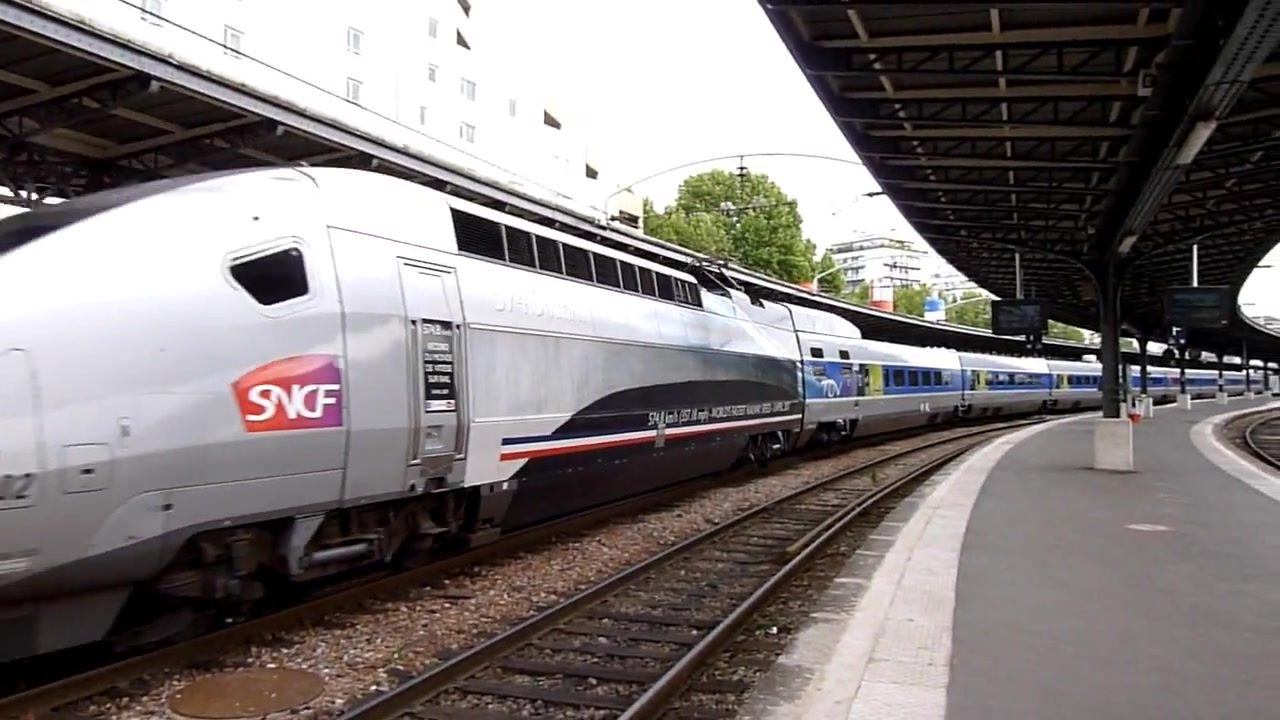train: (1, 1, 1280, 659)
